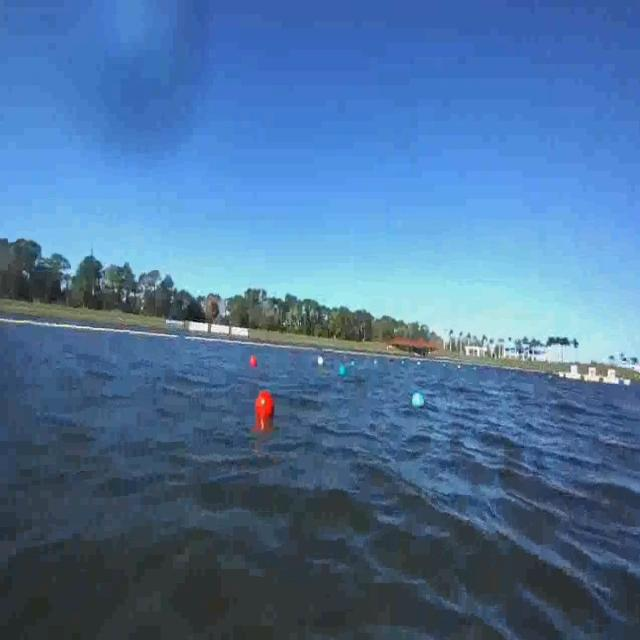green-buoy: (411, 389, 426, 413), (338, 364, 346, 379)
red-buoy: (257, 390, 276, 420), (250, 356, 258, 368)
yellow-buoy: (316, 354, 326, 372)
